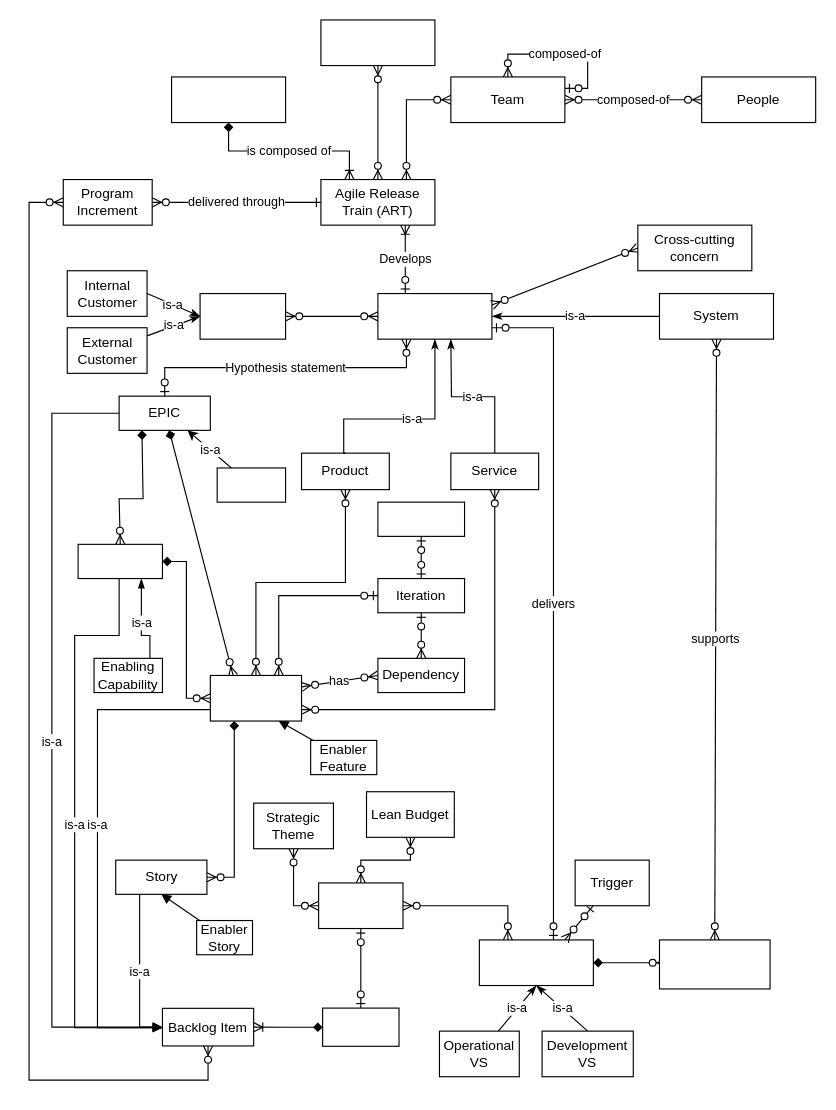
Some shapes in this 836 by 1110 pixel diagram are drawn without their labels. The shapes that lost their labels are listed below. From the top down, each one's box as (x1, y1, x2, y2) in pixels, then its label:
(320, 19, 435, 66): Asset
(170, 76, 286, 123): Solution Train
(199, 292, 286, 339): Customer
(377, 292, 492, 339): Solution
(216, 467, 286, 502): Enabler EPIC
(377, 501, 465, 536): Milestone
(77, 543, 162, 579): Capability
(209, 674, 302, 721): Feature
(317, 882, 403, 929): Portfolio
(478, 939, 593, 986): Value Stream
(658, 939, 770, 989): VS Step
(321, 1007, 399, 1046): Backlog
